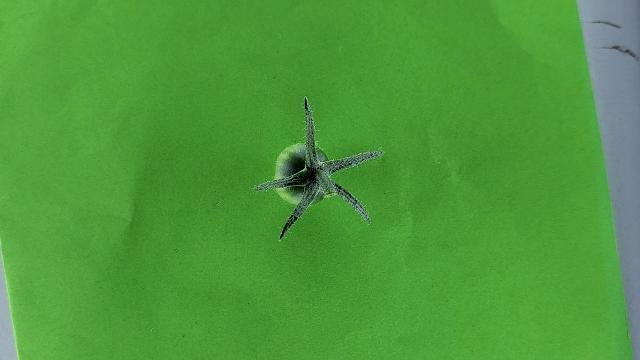Fruit Maturation: (271, 142, 330, 207)
